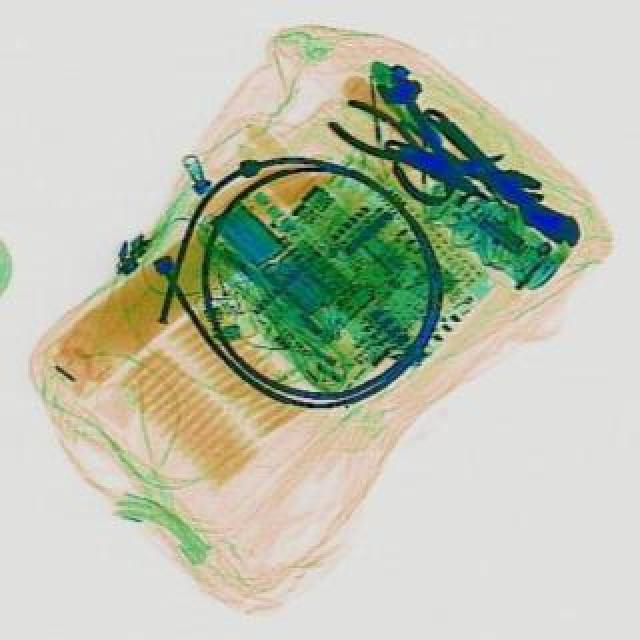scissors: (416, 96, 596, 260), (378, 132, 550, 216)
wrench: (328, 96, 482, 208)
